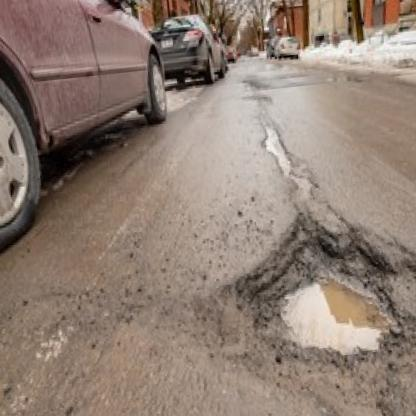pothole: (232, 226, 416, 406)
